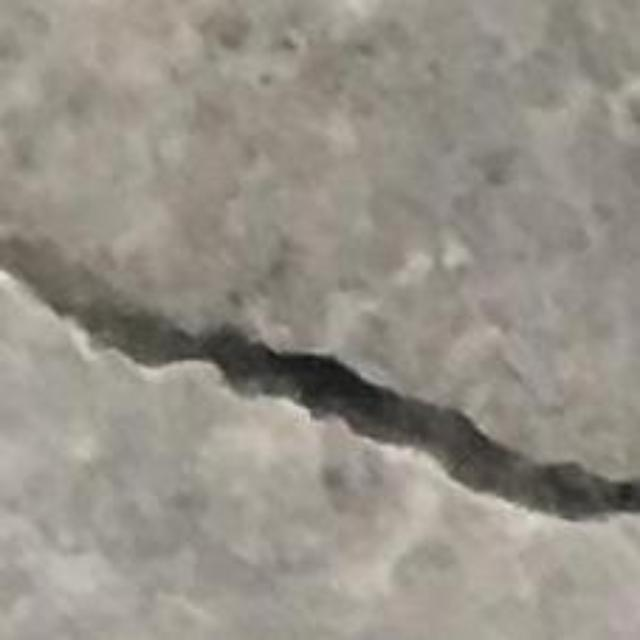crack: (0, 232, 639, 521)
